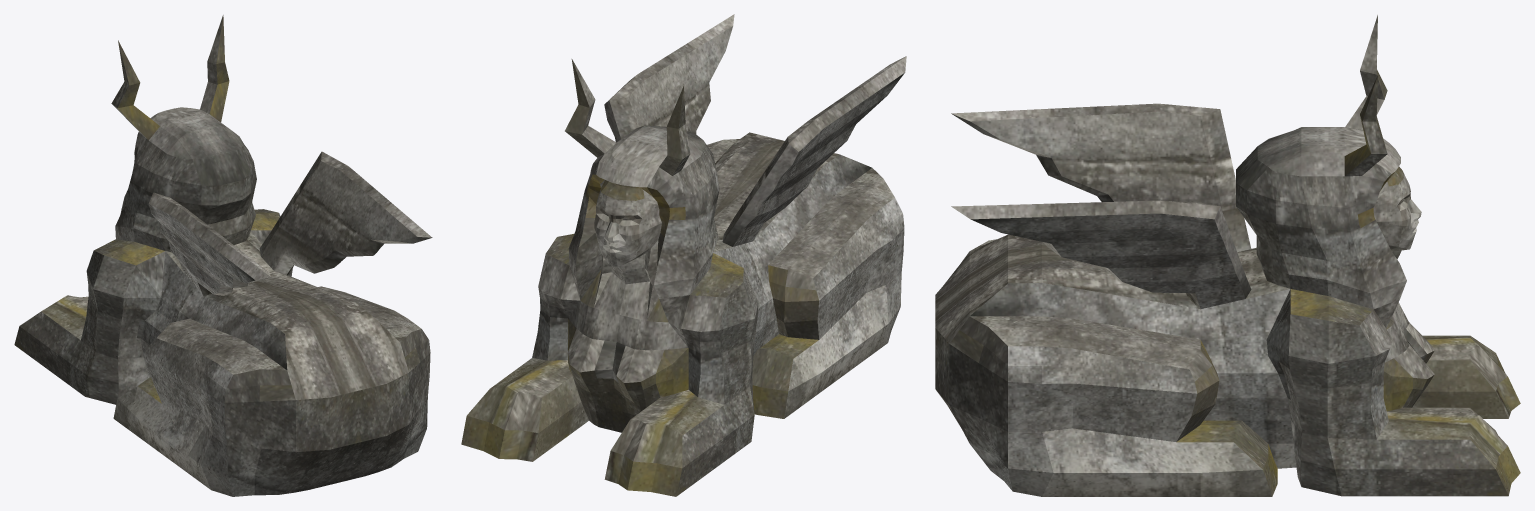
The model's file is KIMERX_003.fbx.
3 views of the same model, side by side, from view 1: azimuth 30°, elevation 25°; view 2: azimuth 150°, elevation 25°; view 3: azimuth 270°, elevation 25° (orthographic). The views are drawn at different scales.
Parts seen in each view (by area): view 1: Plano; view 2: Plano; view 3: Plano.
Boxes of the visible parts, box(x1,y1,x2,y2) form: Plano: box(14, 15, 432, 496); Plano: box(461, 14, 906, 496); Plano: box(935, 15, 1520, 496).
Bounding box in the file's own units: 228 × 339 × 456.
Materials: 1 (1 with a texture image).
